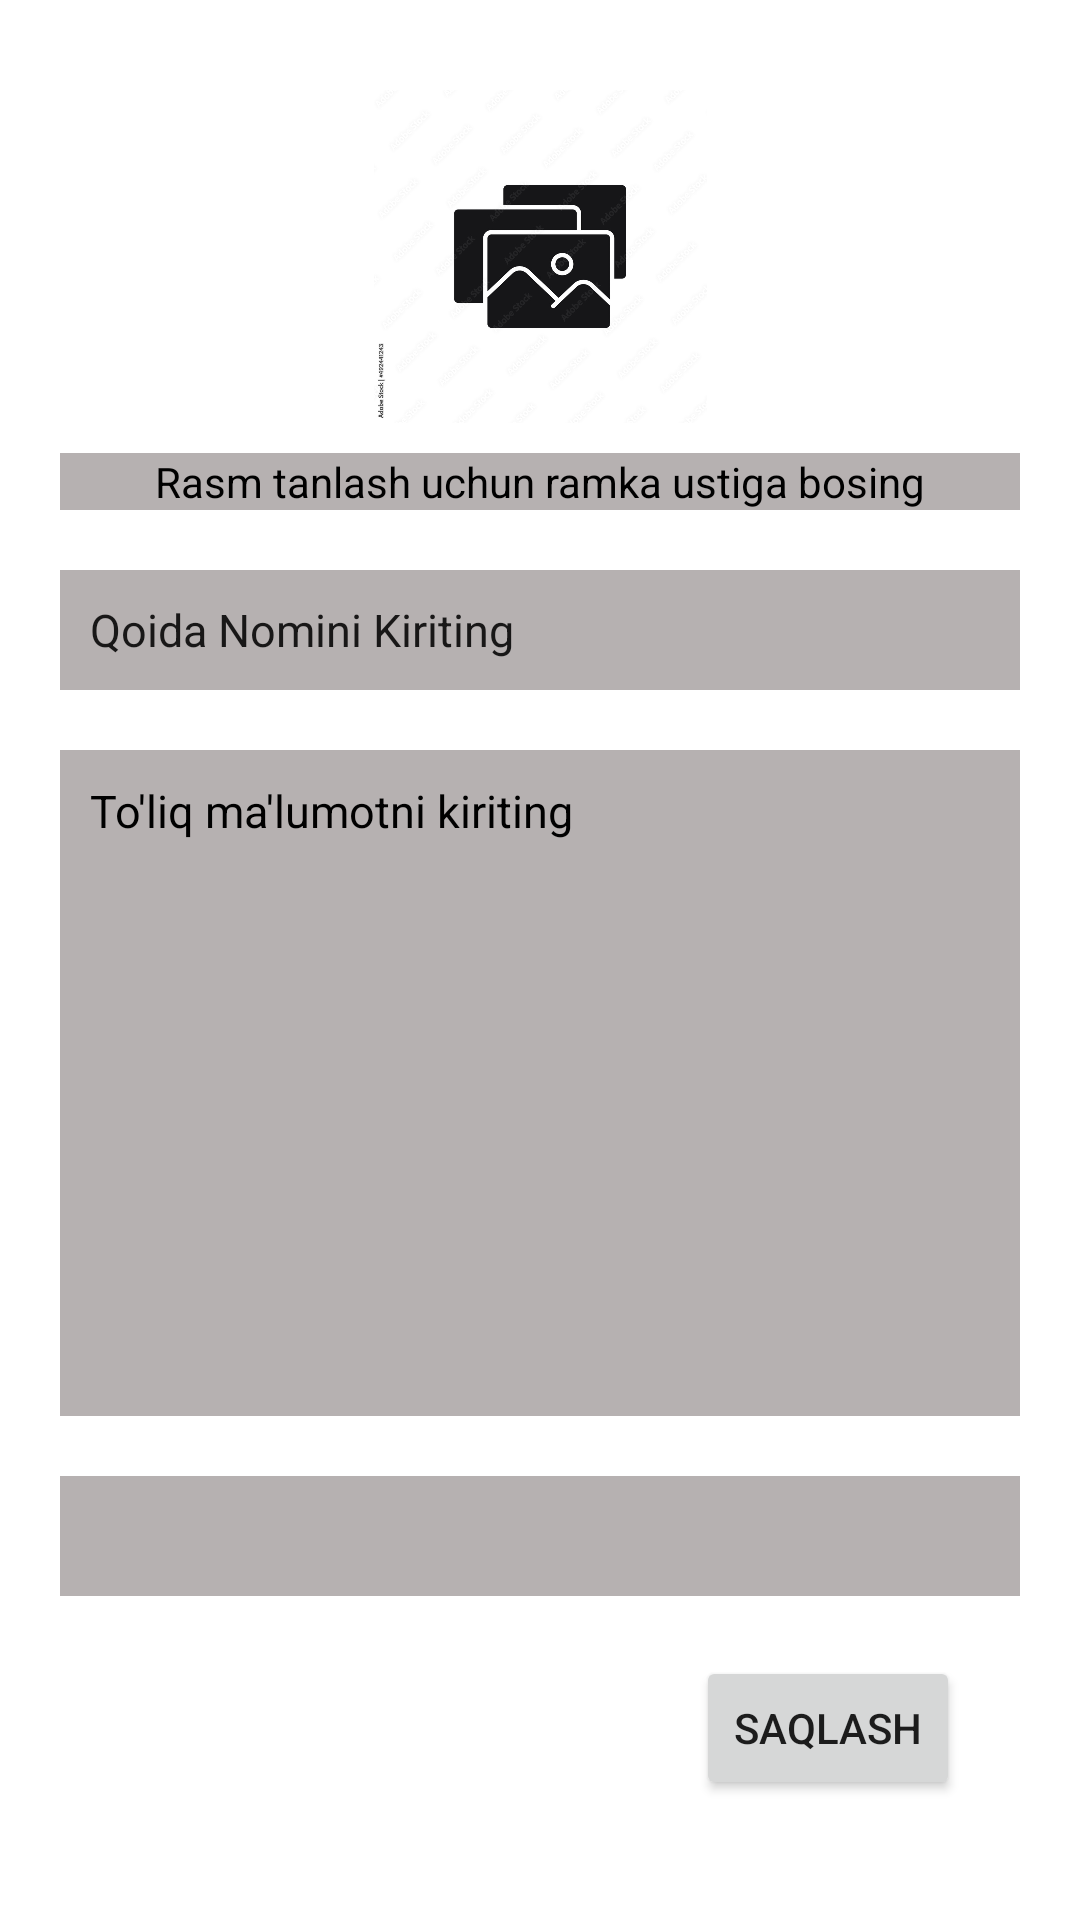

Point at icon controls on the screen. Image size 1080×1920, points as (x,y).
imageback: (502,301)
